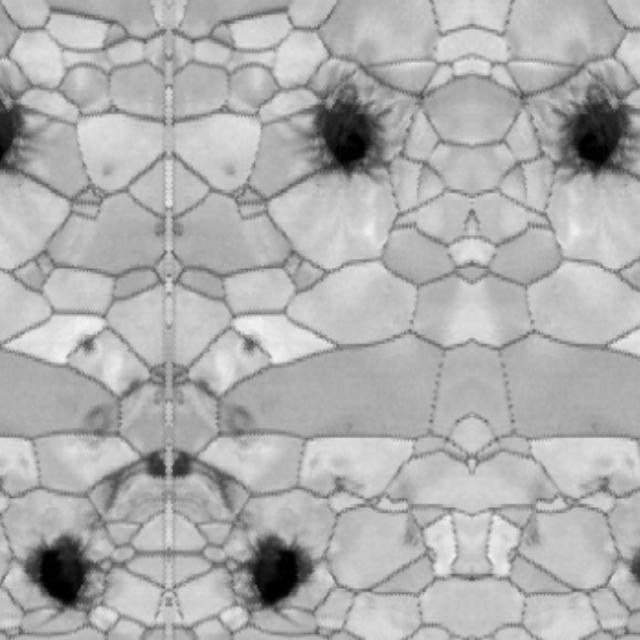good_void: (289, 62, 390, 197), (553, 62, 640, 197), (0, 62, 47, 191), (248, 536, 316, 579), (20, 536, 88, 579), (198, 465, 237, 522), (99, 465, 138, 522), (224, 399, 262, 449), (74, 399, 112, 449), (324, 470, 354, 500), (589, 470, 619, 500), (191, 375, 221, 402), (115, 375, 145, 402), (402, 515, 422, 552), (521, 515, 541, 552), (168, 214, 194, 241), (142, 214, 168, 241), (218, 159, 243, 185), (93, 159, 118, 185), (168, 456, 193, 481), (143, 456, 168, 481), (407, 88, 433, 112), (510, 88, 536, 112), (242, 334, 258, 357), (78, 334, 94, 357), (0, 472, 12, 496), (344, 421, 356, 432), (587, 421, 599, 432)
